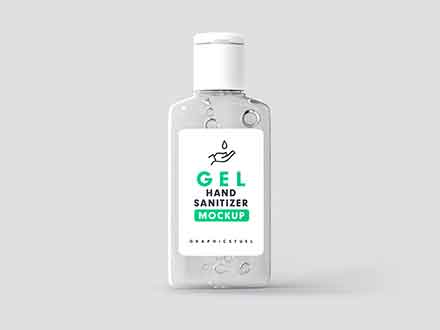Medicine: (157, 23, 296, 299)
